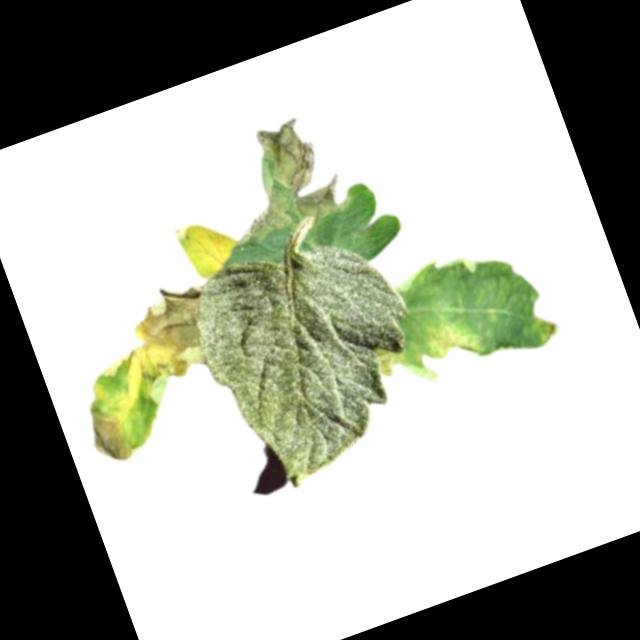Late_blight: (211, 111, 346, 246), (112, 276, 223, 391), (169, 211, 244, 284), (419, 307, 489, 374), (79, 400, 138, 471), (373, 333, 437, 398), (537, 315, 564, 343)
healthy: (179, 215, 452, 503)
